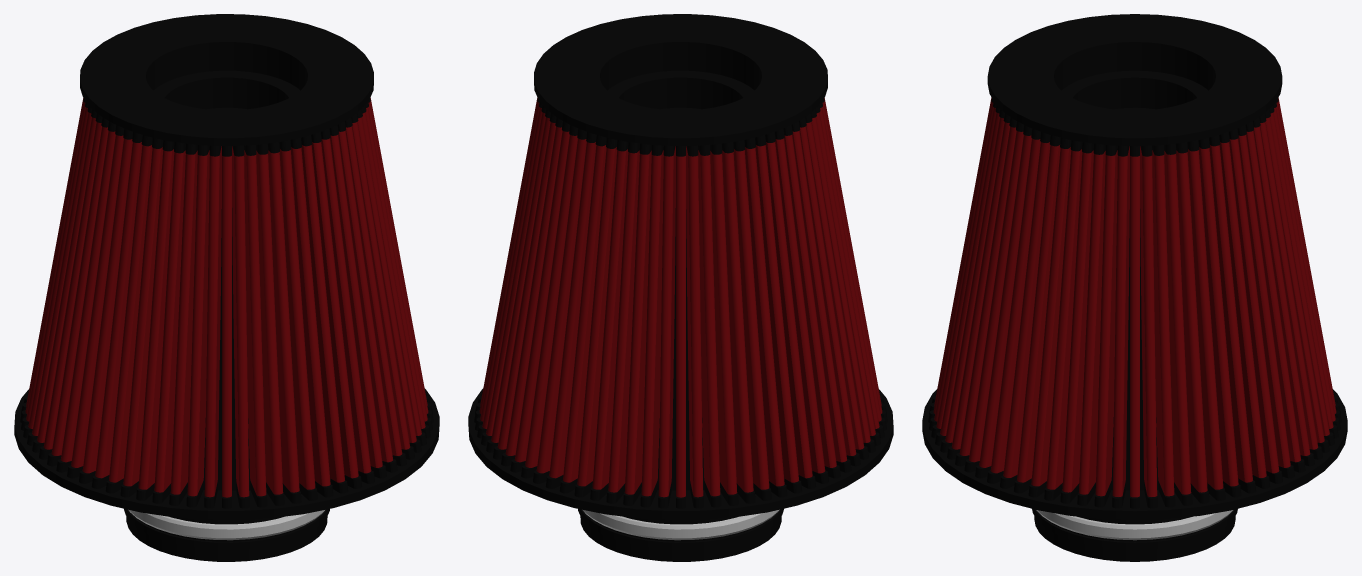
File: air_filter.glb
The picture shows the model from 3 angles, left to right: view 1: azimuth 30°, elevation 25°; view 2: azimuth 150°, elevation 25°; view 3: azimuth 270°, elevation 25°; orthographic projection.
Parts seen in each view (by area): view 1: air_filter; view 2: air_filter; view 3: air_filter.
Boxes of the visible parts, <box> form: air_filter: <box>14,14,439,561</box>; air_filter: <box>468,14,893,561</box>; air_filter: <box>922,14,1347,561</box>.
Bounding box in the file's own units: 0.8704 × 1 × 0.8704.
